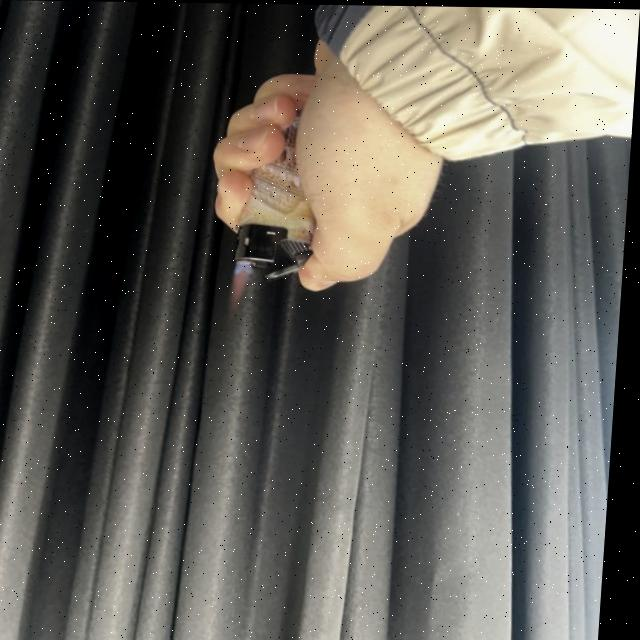Fire: (231, 262, 259, 311)
